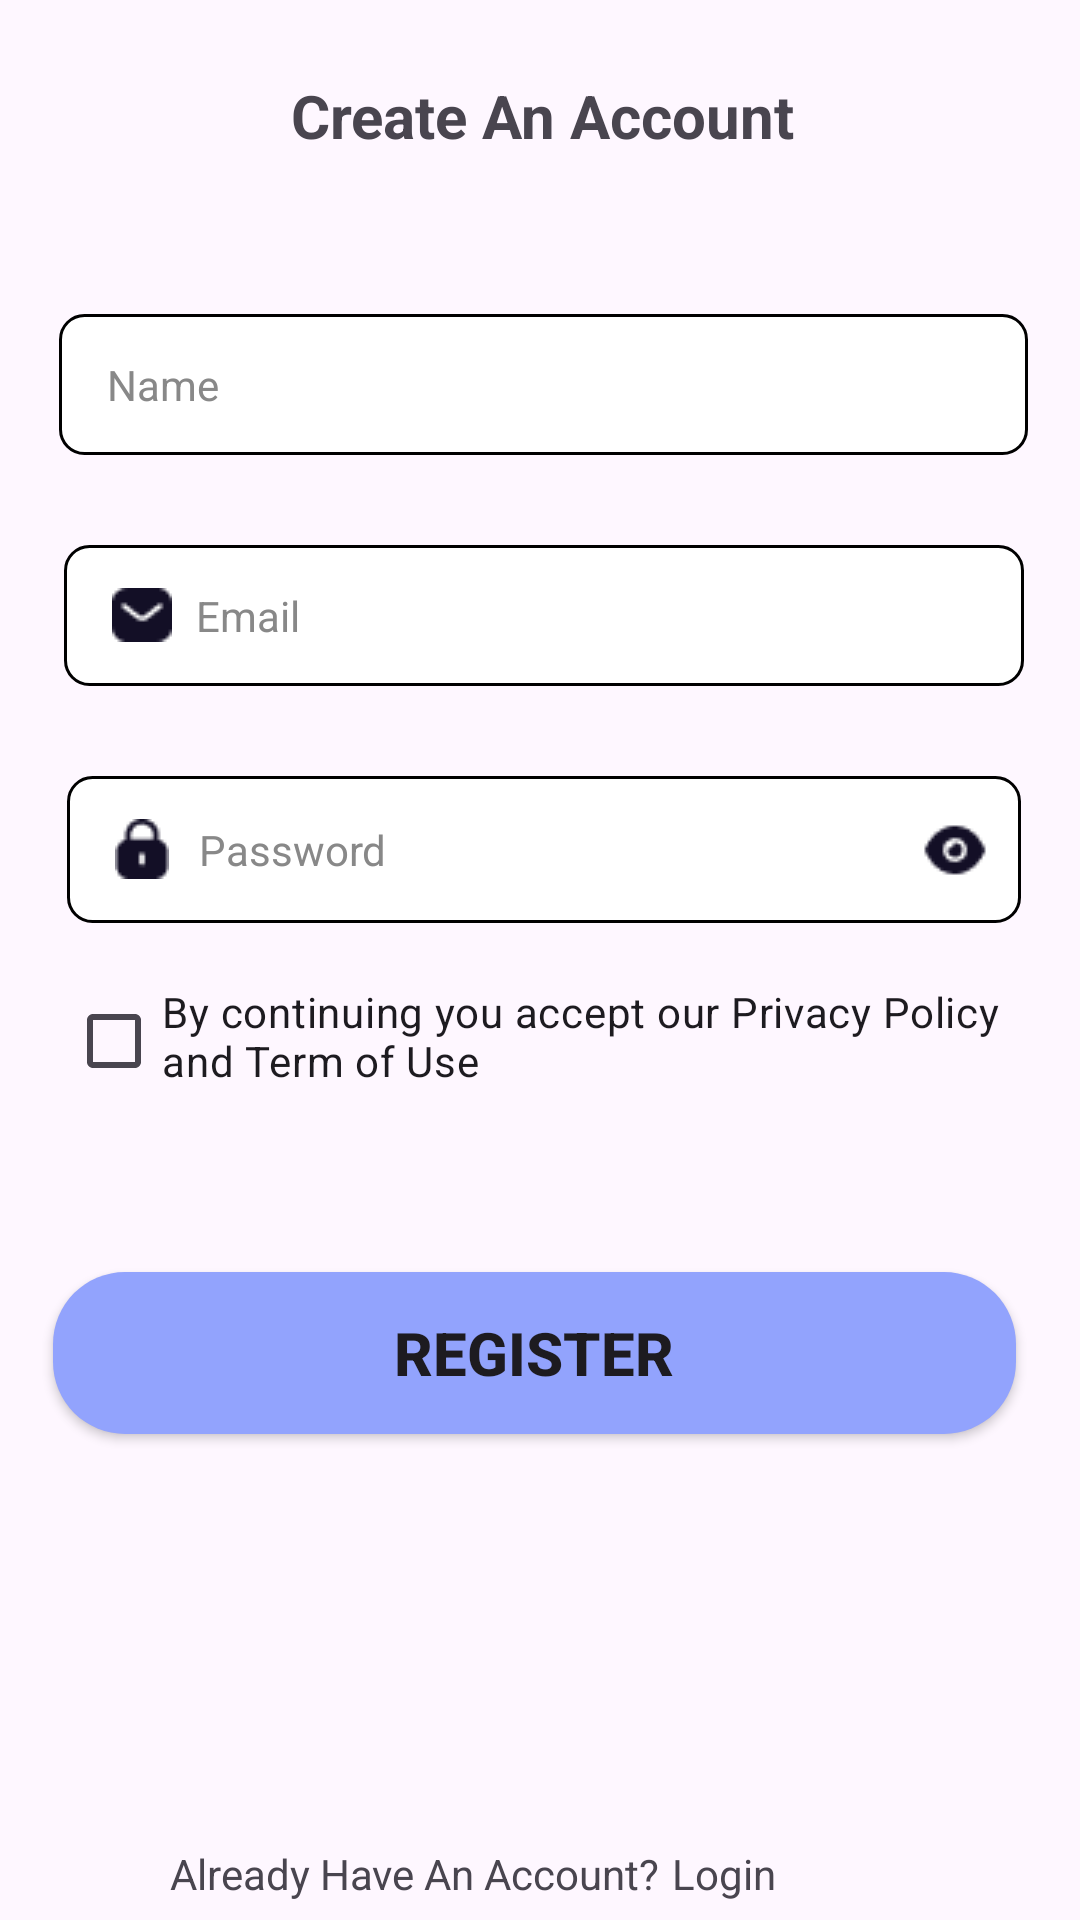

Icons on this 1080 x 1920 Android screen, each with the point to tap as point (x, y):
show: point (955, 850)
